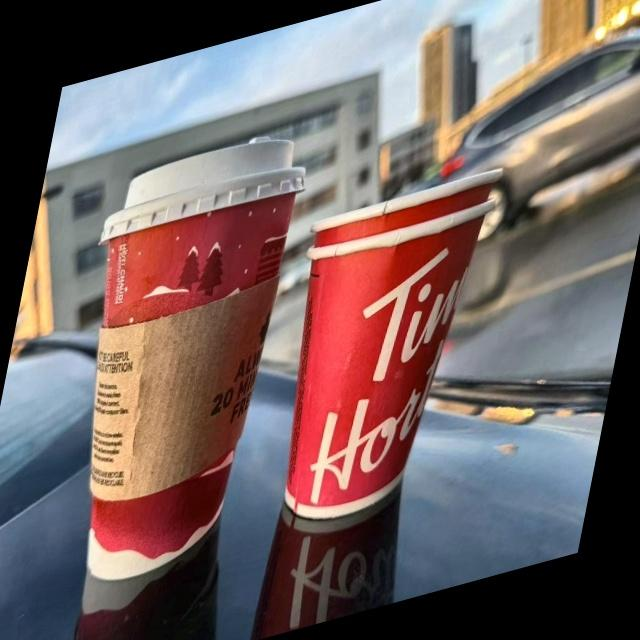Timmies: (26, 116, 320, 608), (248, 187, 504, 546)
